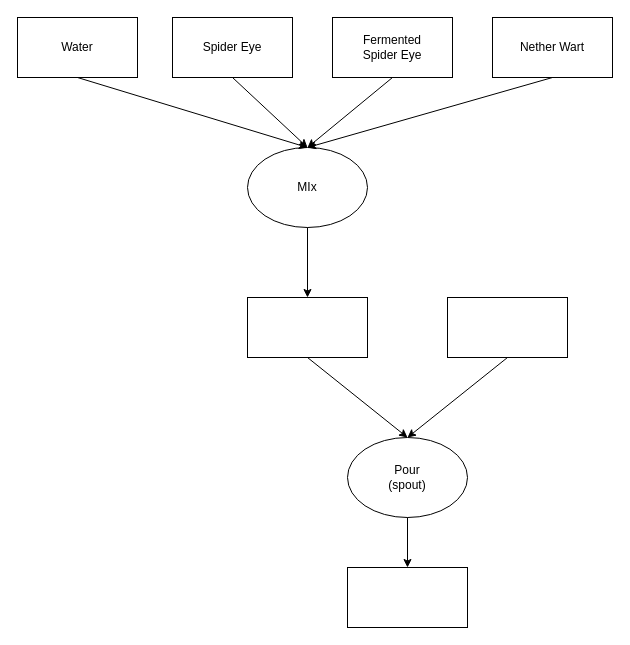
This 630x645 diagram has some shape labels left out. The centre of each missing label's shape, as x and y in pixels:
Cinder Flour: point 507,327
Gunpowder: point 407,597
Potion of Harming: point 307,327
